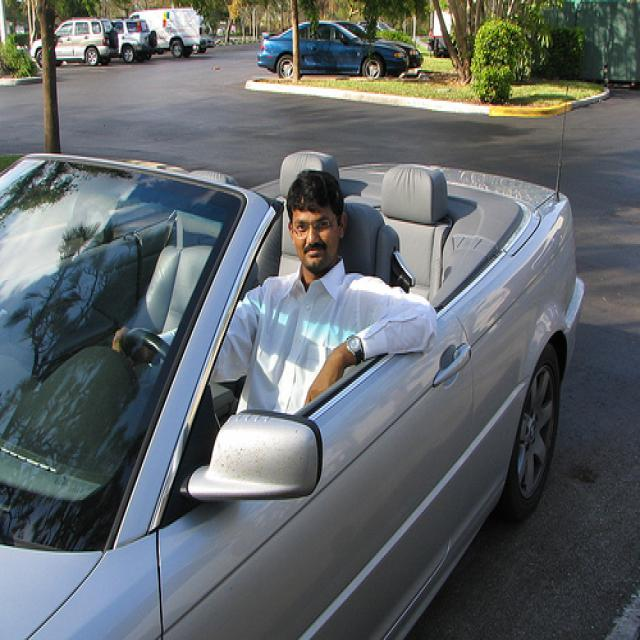light_vehicle: (0, 144, 584, 636), (255, 17, 407, 79), (335, 21, 424, 74), (30, 11, 116, 62), (112, 17, 156, 63)
